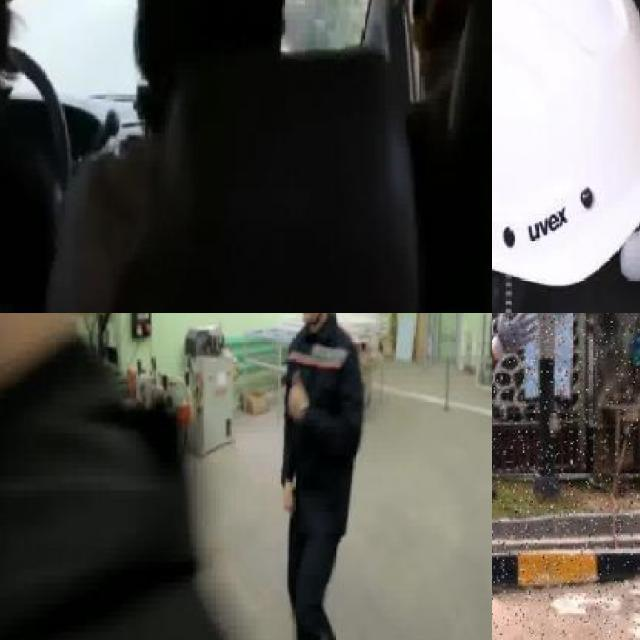apron: (492, 313, 541, 372)
